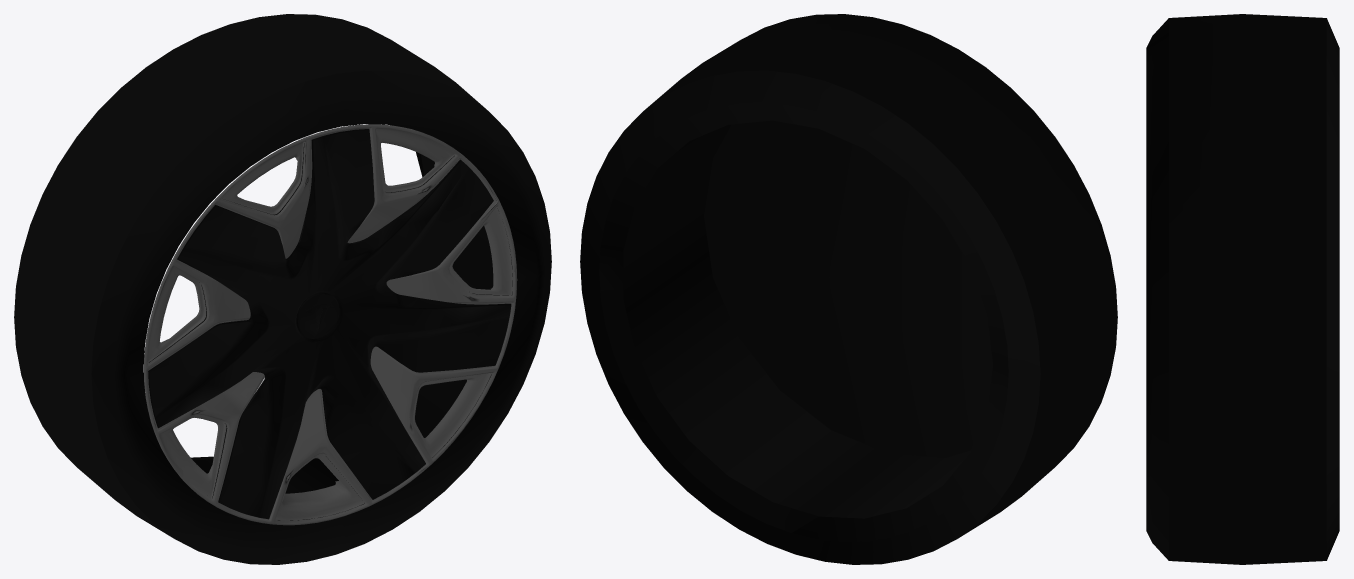
File: Machina2.glb
The picture shows the model from 3 angles, left to right: view 1: azimuth 30°, elevation 25°; view 2: azimuth 150°, elevation 25°; view 3: azimuth 270°, elevation 25°; orthographic projection. The views are drawn at different scales.
Visible parts, largest first — view 1: LongWheel; view 2: LongWheel; view 3: LongWheel.
Boxes of the visible parts, x1,y1,x2,y2 form: LongWheel: (14,14,551,564); LongWheel: (580,14,1117,564); LongWheel: (1146,14,1339,564).
Bounding box in the file's own units: 0.6726 × 0.6713 × 0.2359.
2 materials, 1 textured.
